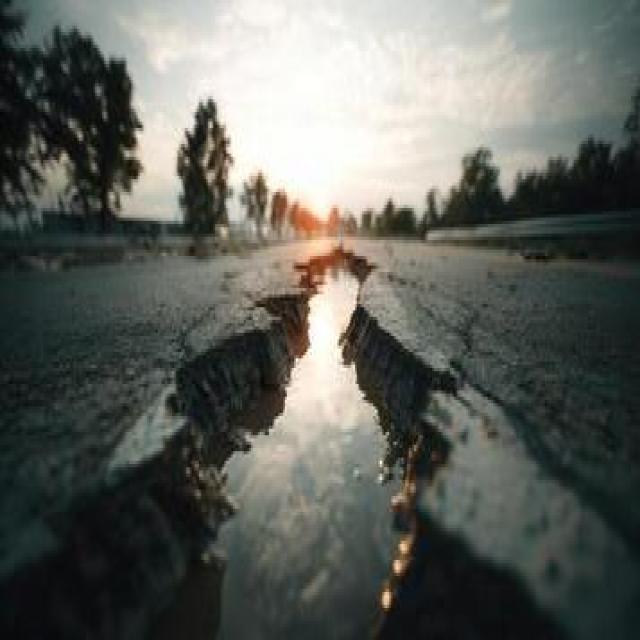road collapse: (0, 54, 635, 640)
